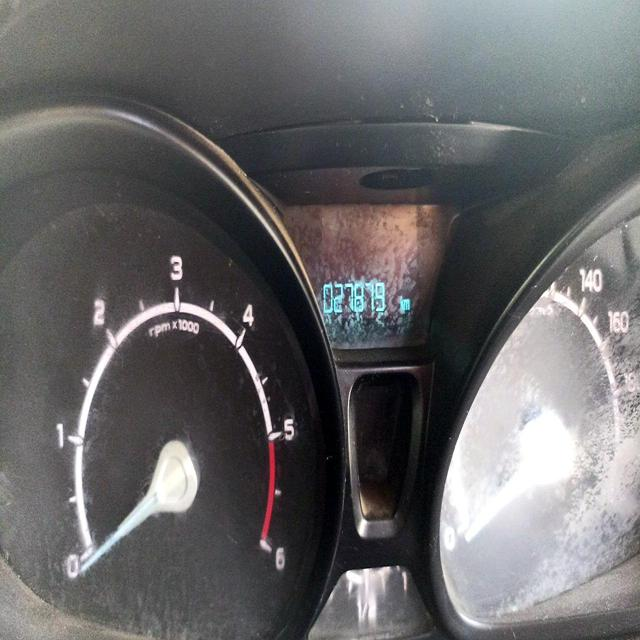odometer: (319, 277, 388, 318)
